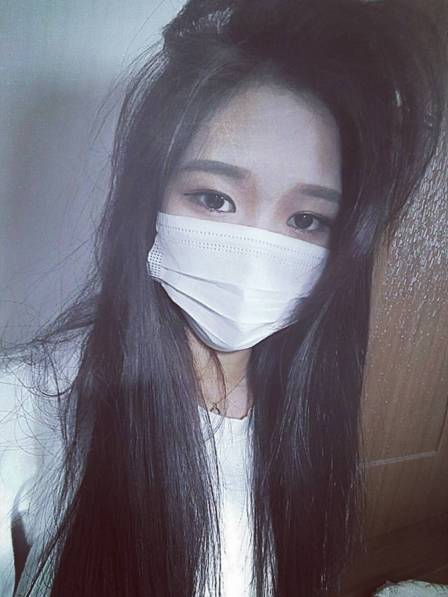mask: (144, 182, 346, 364)
